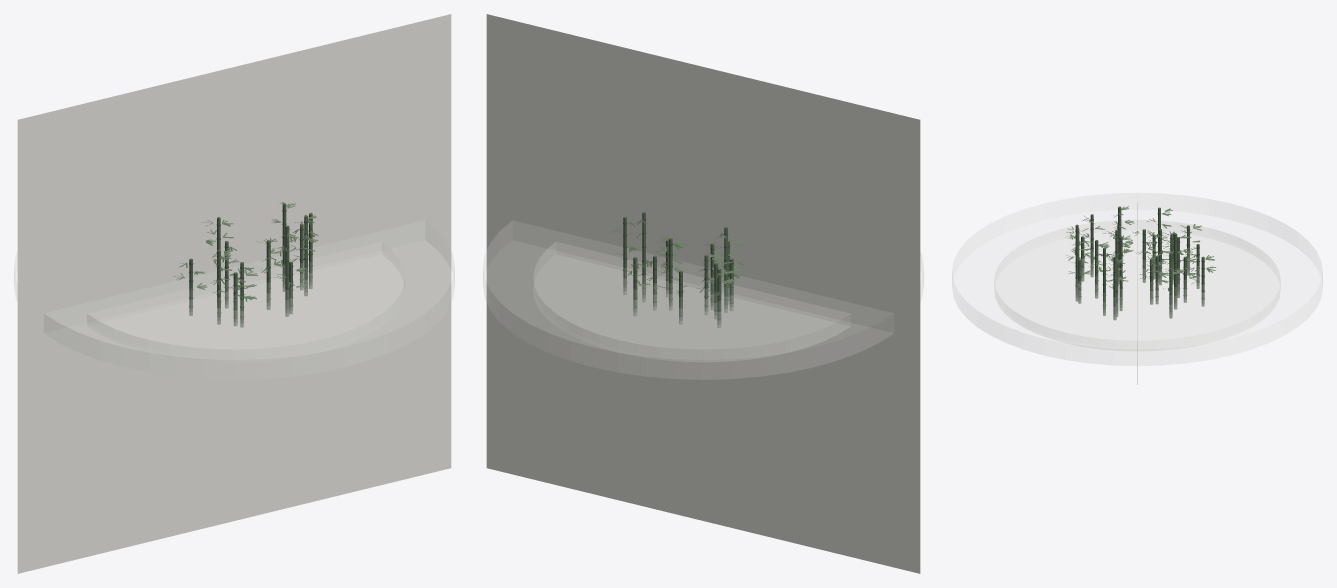
The model's file is bamboo_ink.fbx.
The picture shows the model from 3 angles, left to right: view 1: azimuth 30°, elevation 25°; view 2: azimuth 150°, elevation 25°; view 3: azimuth 270°, elevation 25°; orthographic projection. The views are drawn at different scales.
Visible parts, largest first — view 1: Ground, Fog_1, Fog_0; view 2: Ground, Fog_1, Fog_0; view 3: Fog_1, Fog_0.
Boxes of the visible parts, x1,y1,x2,y2 form: Ground: (17,14,451,573); Fog_1: (14,221,454,379); Fog_0: (87,242,404,361); Ground: (486,14,920,573); Fog_1: (483,221,923,379); Fog_0: (533,242,850,361); Fog_1: (952,193,1322,365); Fog_0: (994,220,1280,350).
Bounding box in the file's own units: 50 × 50 × 44.
